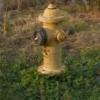Hydrant: (27, 2, 80, 78)
